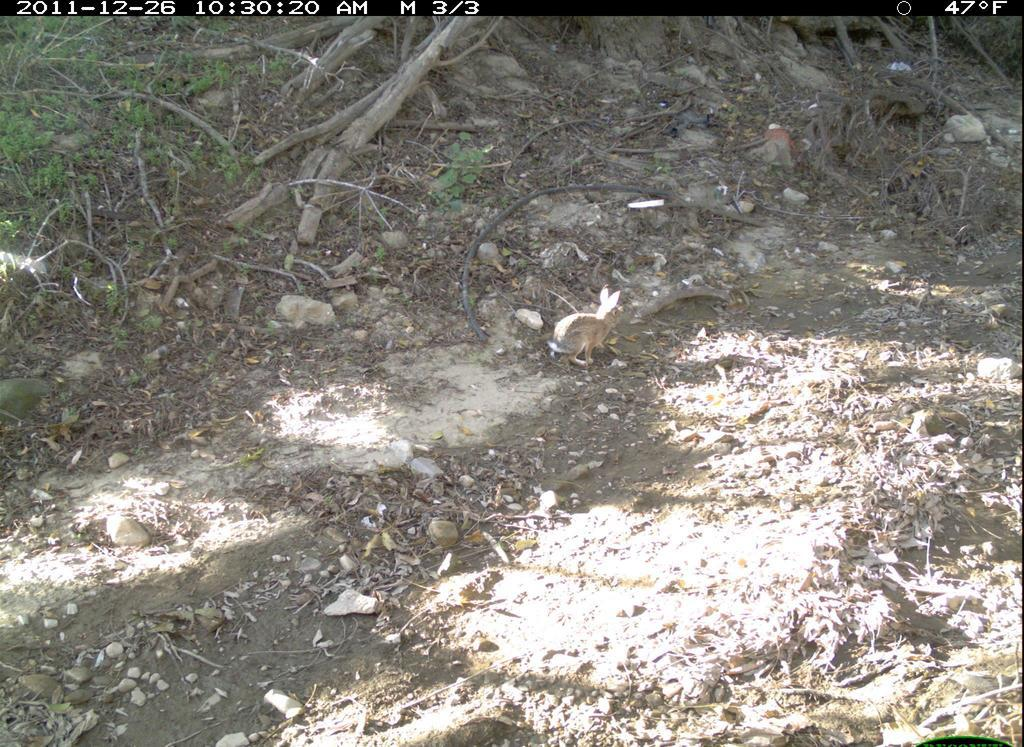rabbit: (546, 283, 627, 370)
